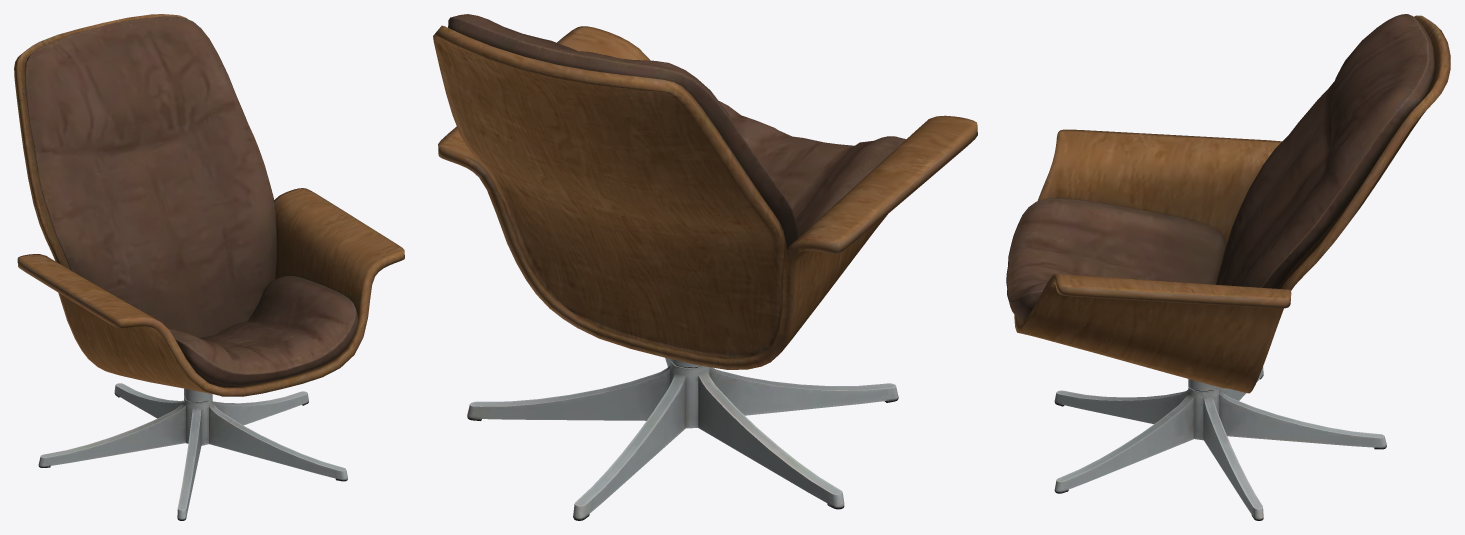
The model's file is ph-mid_century_lounge_chair.glb.
3 renders of one model, left to right at view 1: azimuth 30°, elevation 25°; view 2: azimuth 150°, elevation 25°; view 3: azimuth 270°, elevation 25°, orthographic. The views are drawn at different scales.
Visible parts, largest first — view 1: mid_century_lounge_chair; view 2: mid_century_lounge_chair; view 3: mid_century_lounge_chair.
Part boxes in pixels (x1,y1,x2,y2): mid_century_lounge_chair: (14, 14, 404, 520); mid_century_lounge_chair: (433, 14, 977, 520); mid_century_lounge_chair: (1006, 14, 1450, 520).
Bounding box in the file's own units: 0.8474 × 0.9822 × 1.
Materials: 1 (1 with a texture image).
